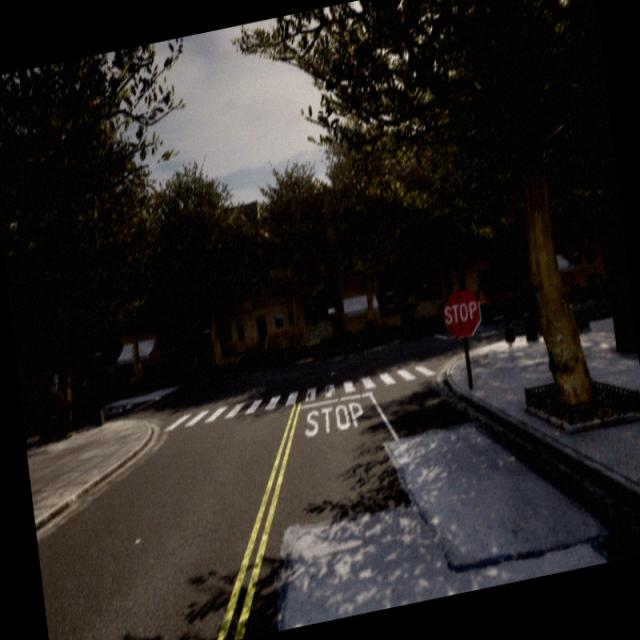stop sign: (441, 287, 482, 340), (443, 299, 478, 325)
